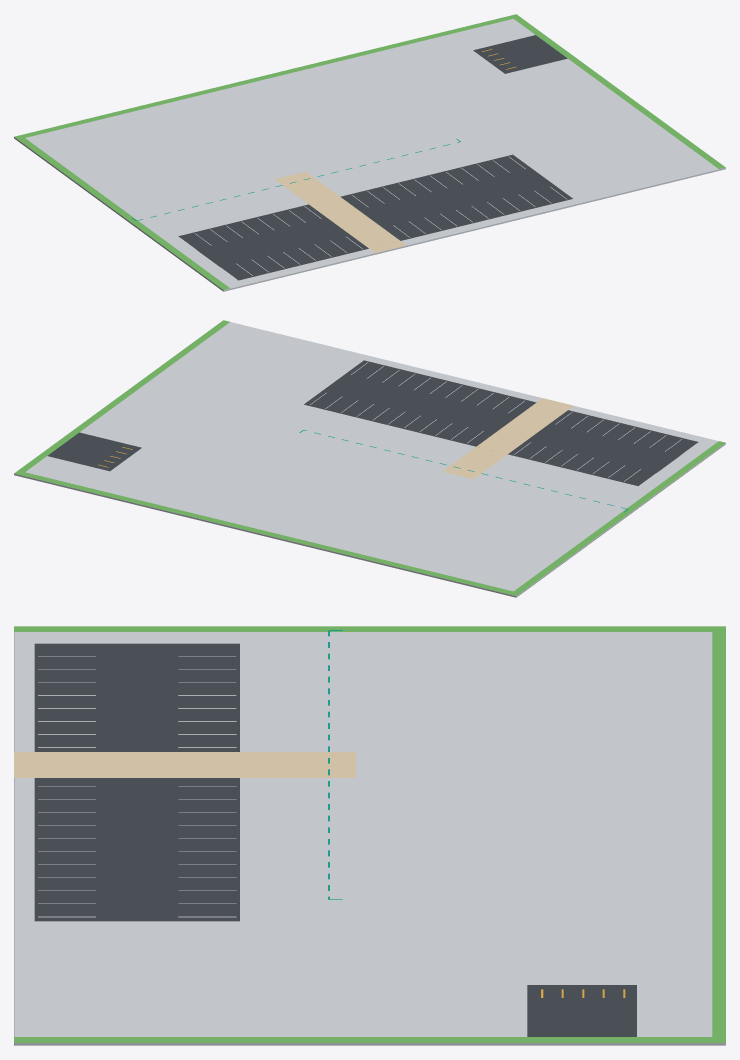
Rendered from CM_Plot_Pad_MegaMart.fbx.
3 views of the same model, one above another, from view 1: azimuth 30°, elevation 25°; view 2: azimuth 150°, elevation 25°; view 3: azimuth 270°, elevation 25° (orthographic). The views are drawn at different scales.
Visible parts, largest first — view 1: Pad; view 2: Pad; view 3: Pad.
Part boxes in pixels (<box>): Pad: <box>14,14,725,291</box>; Pad: <box>14,320,725,597</box>; Pad: <box>14,626,725,1045</box>.
Size of the model in its own units: 288 by 208 by 1.01.
1 material, 1 textured.
